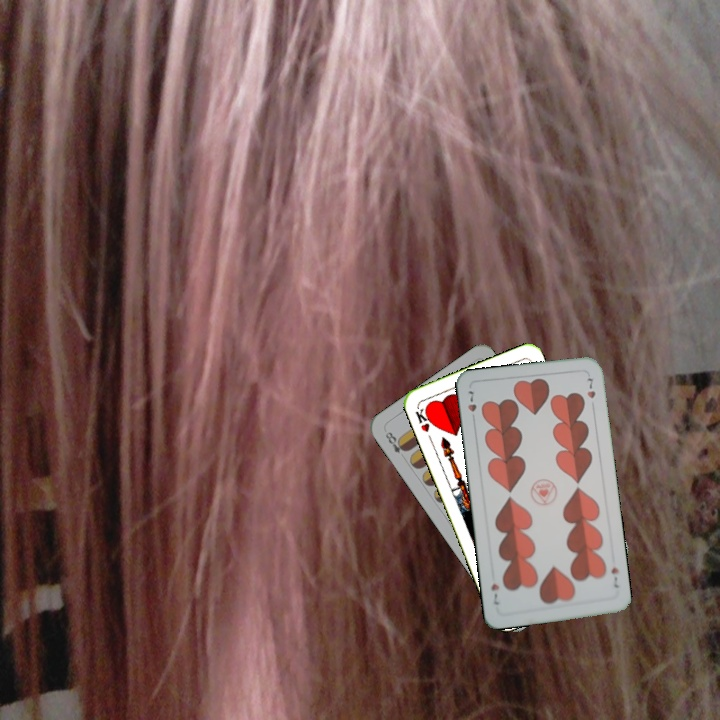E8: (381, 428, 410, 456)
H7: (464, 387, 479, 425), (607, 563, 621, 590)
HK: (411, 403, 436, 434)
